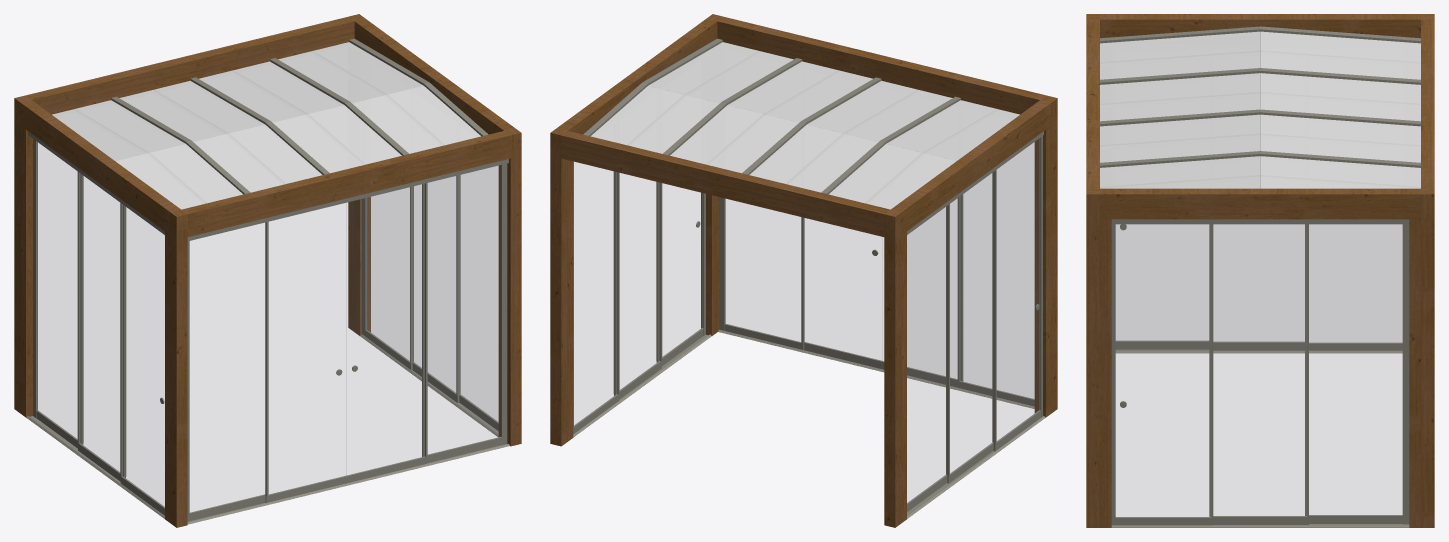
The model's file is agp_h27-w30-d24_naturalpine.fbx.
The picture shows the model from 3 angles, left to right: view 1: azimuth 30°, elevation 25°; view 2: azimuth 150°, elevation 25°; view 3: azimuth 270°, elevation 25°; orthographic projection. The views are drawn at different scales.
Visible parts, largest first — view 1: agp_h27-w30-d24_darkpine.008; view 2: agp_h27-w30-d24_darkpine.008; view 3: agp_h27-w30-d24_darkpine.008.
Part boxes in pixels (bbox=[...]): agp_h27-w30-d24_darkpine.008: bbox=[14, 14, 521, 527]; agp_h27-w30-d24_darkpine.008: bbox=[550, 14, 1057, 527]; agp_h27-w30-d24_darkpine.008: bbox=[1086, 14, 1434, 527].
Size of the model in its own units: 313 by 270 by 255.
4 materials, 2 textured.
